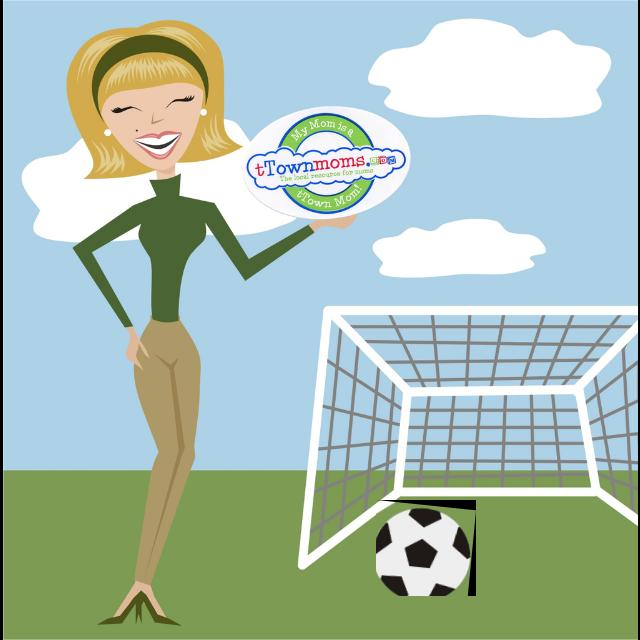Football: (376, 500, 476, 596)
